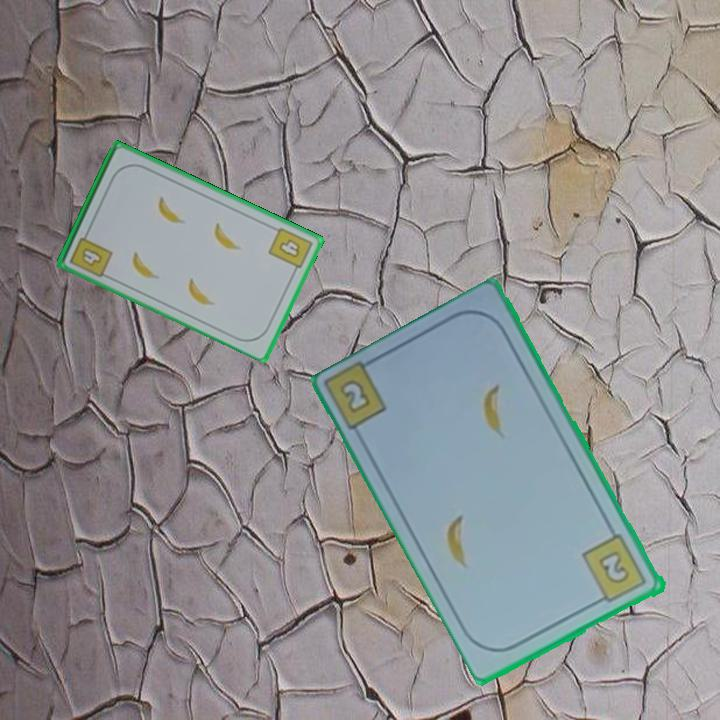2b: (579, 531, 651, 607), (336, 376, 374, 417)
4b: (66, 226, 116, 280), (265, 224, 315, 277)
